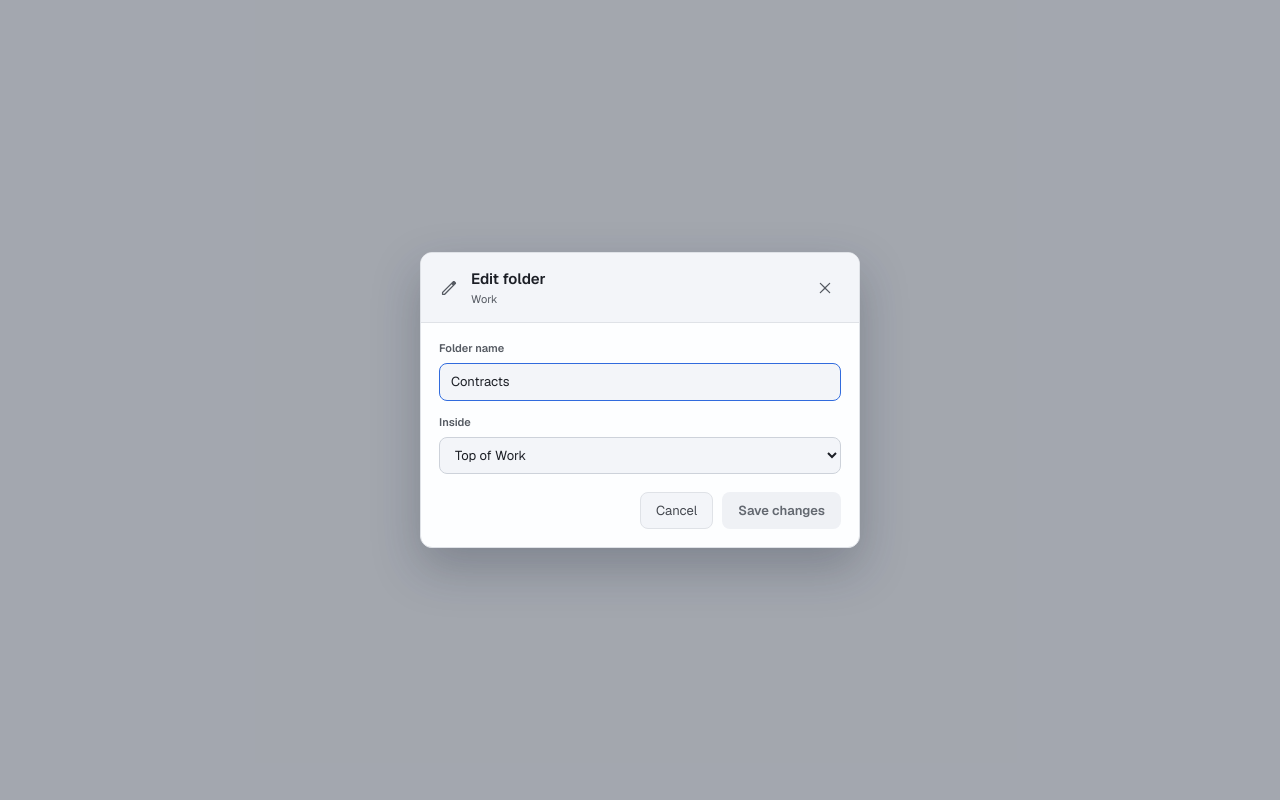
Test: FolderMaintenanceProvider › moves the folder where only its place moved
The width and height of the screenshot is (1280, 800).
Select "Projects" in the dropdown labelled "Inside" at coordinates (640, 455), box [439,436,841,474]
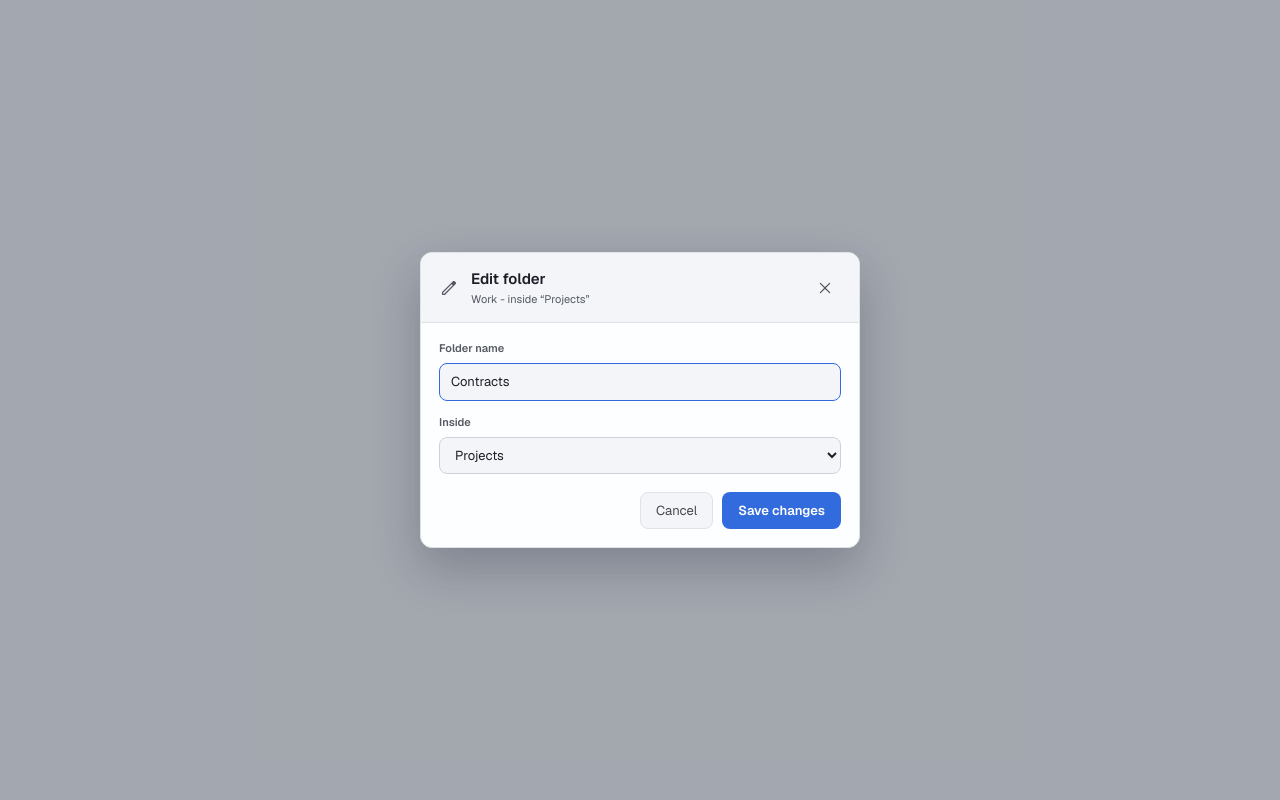
Click the button "Save changes" at coordinates (782, 510), box [722,492,841,529]
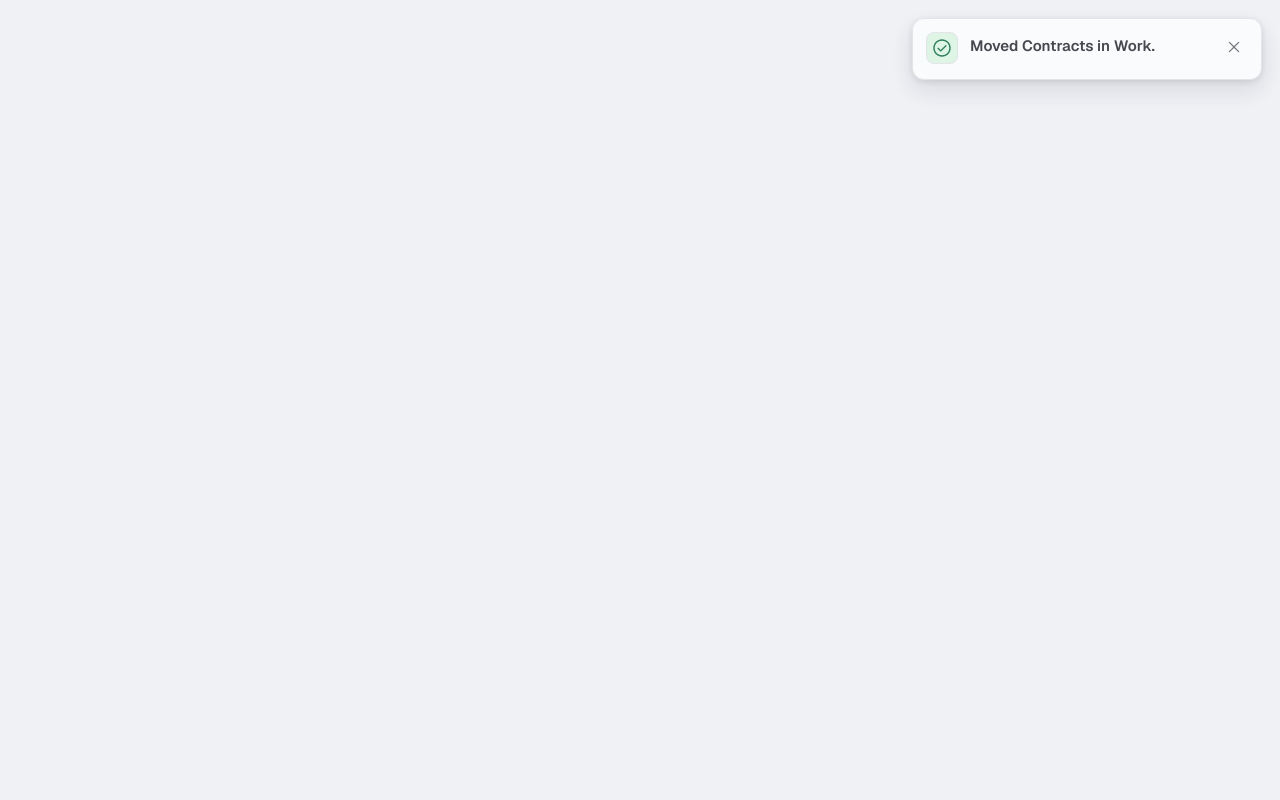
Result: the text "Moved Contracts in Work." is shown at [969,35,1155,55]
